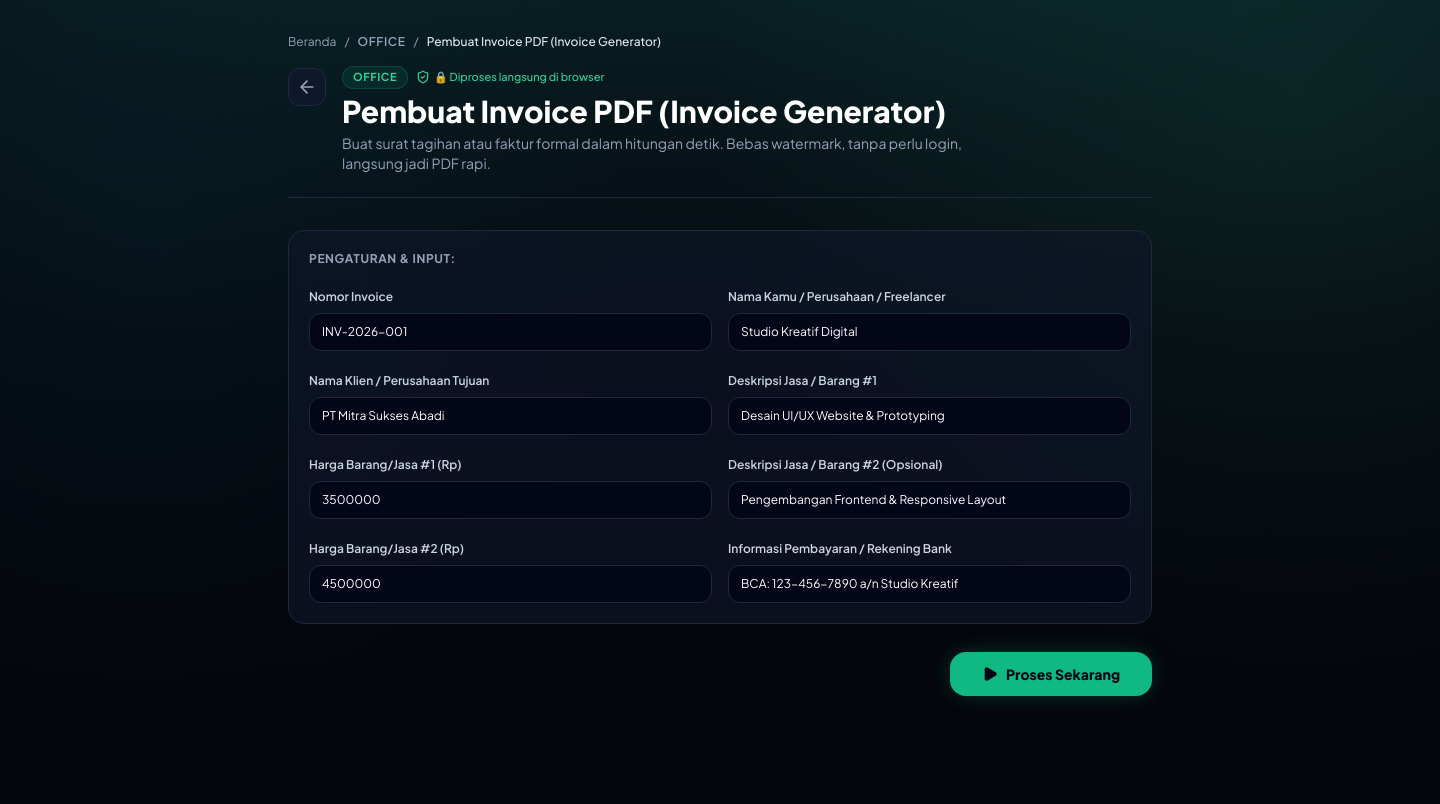
Test: End-to-End UI & Functional User Journeys (Task 6) › 3. Text & Form Tools UI Flow › Invoice Generator: creates PDF invoice from form inputs
Check: the text "Nomor Invoice" is shown, box [309, 288, 393, 304]
Click the button "Proses Sekarang": (1051, 674) [950, 652, 1152, 696]
(page scrolled)
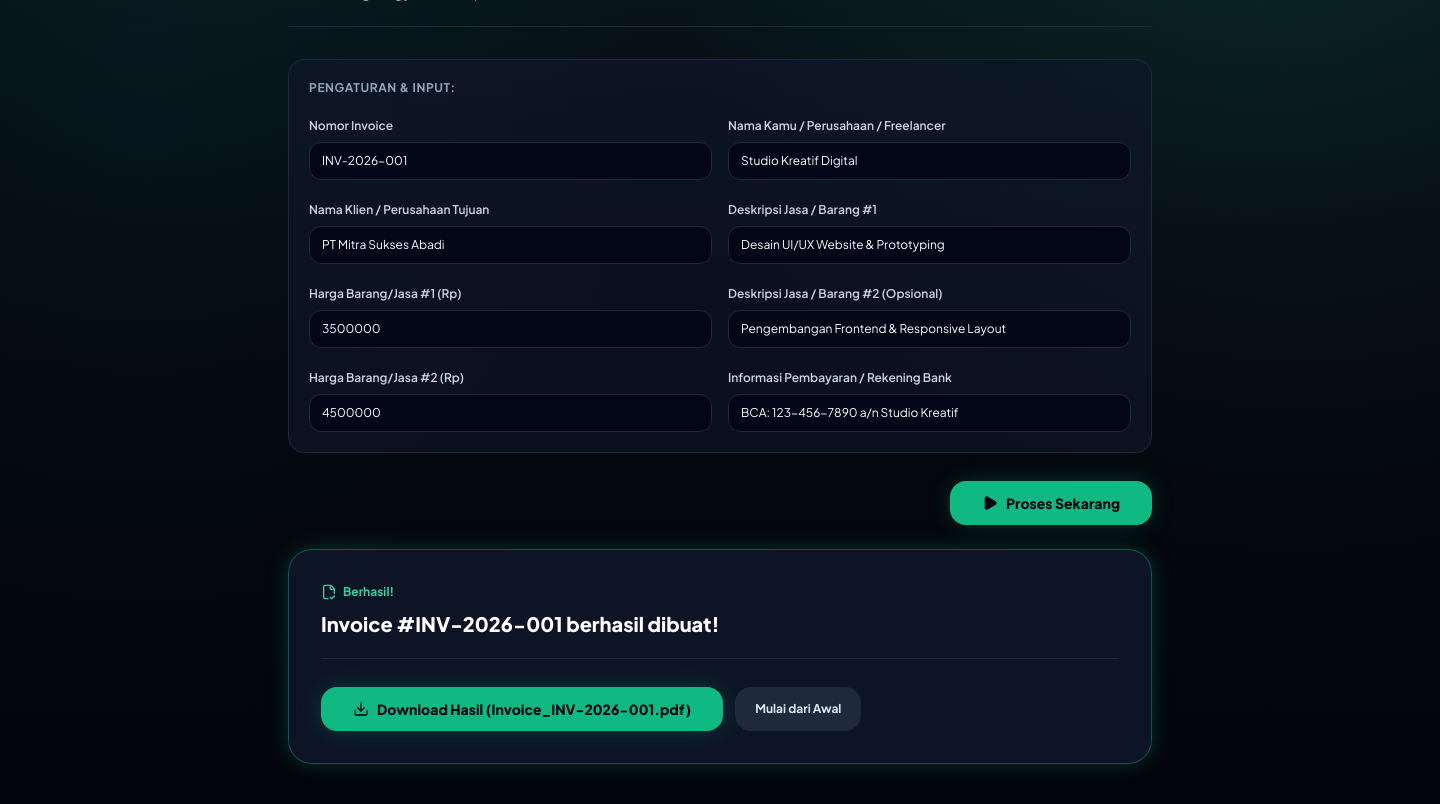
Check: the text "Berhasil!" is shown, box [321, 584, 394, 600]
Check: the button "Download Hasil (Invoice_INV-2026-001.pdf)" is shown, box [321, 686, 723, 730]
